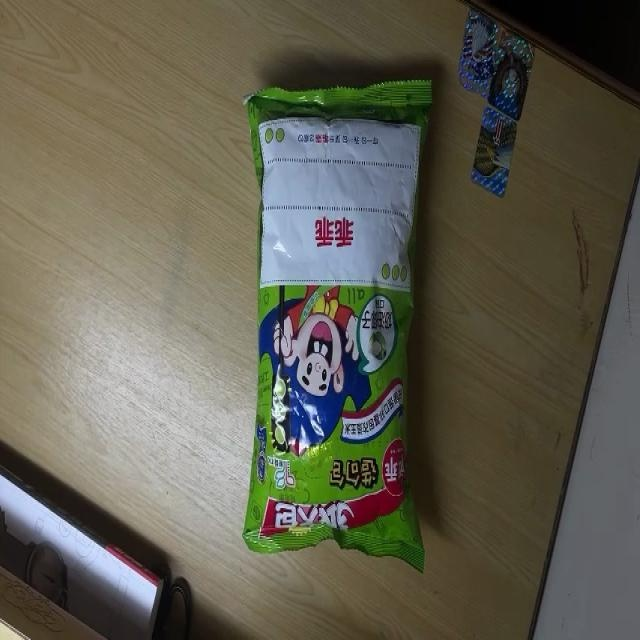Good-Luck: (241, 78, 433, 576)
